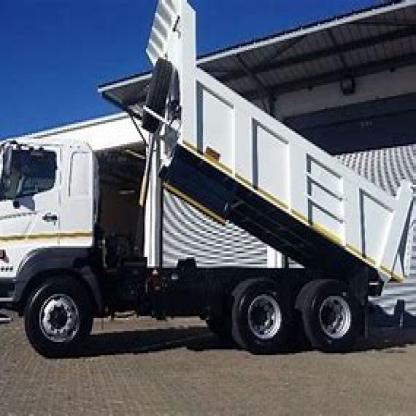dump_truck: (0, 0, 415, 370)
